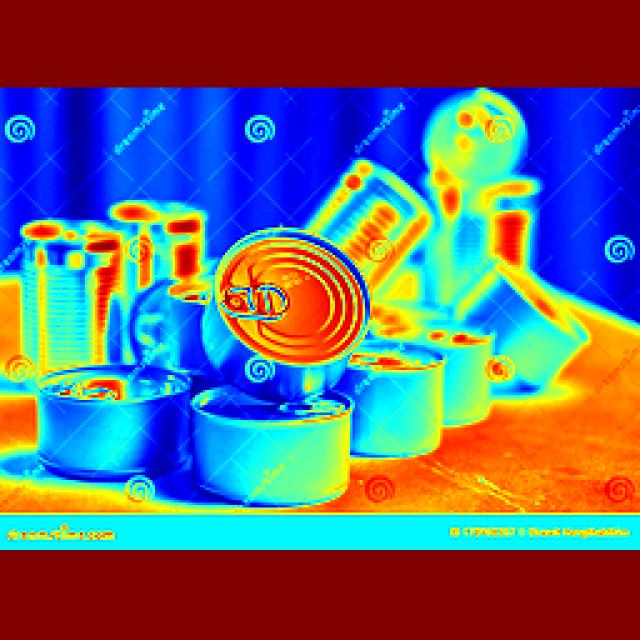Aluminium Food Cans: (182, 369, 360, 508), (212, 229, 362, 383), (38, 352, 186, 484), (320, 166, 426, 265)
